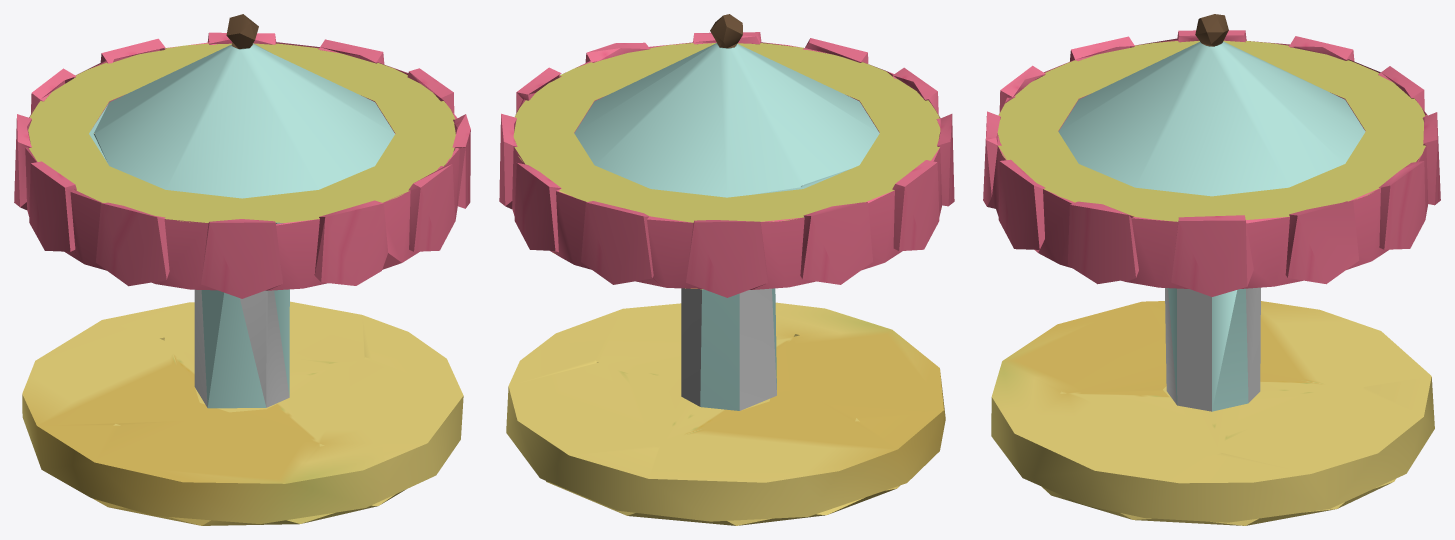
File: carruseltexturizado_optim.obj
3 views of the same model, side by side, from view 1: azimuth 30°, elevation 25°; view 2: azimuth 150°, elevation 25°; view 3: azimuth 270°, elevation 25° (orthographic).
Parts seen in each view (by area): view 1: carruseltexturizado, Parte4, Parte3; view 2: carruseltexturizado, Parte3, Parte2; view 3: carruseltexturizado, Parte1, Parte2, Parte4.
Part boxes in pixels (box(x1,y1,x2,y2)): carruseltexturizado: box(14, 14, 470, 525); Parte4: box(239, 290, 289, 407); Parte3: box(194, 289, 207, 407); carruseltexturizado: box(499, 14, 954, 525); Parte3: box(739, 288, 776, 410); Parte2: box(681, 288, 701, 406); carruseltexturizado: box(983, 14, 1440, 525); Parte1: box(1177, 288, 1211, 411); Parte2: box(1246, 287, 1260, 402); Parte4: box(1165, 288, 1176, 404).
Bounding box in the file's own units: 9.74 × 9.99 × 9.75.
